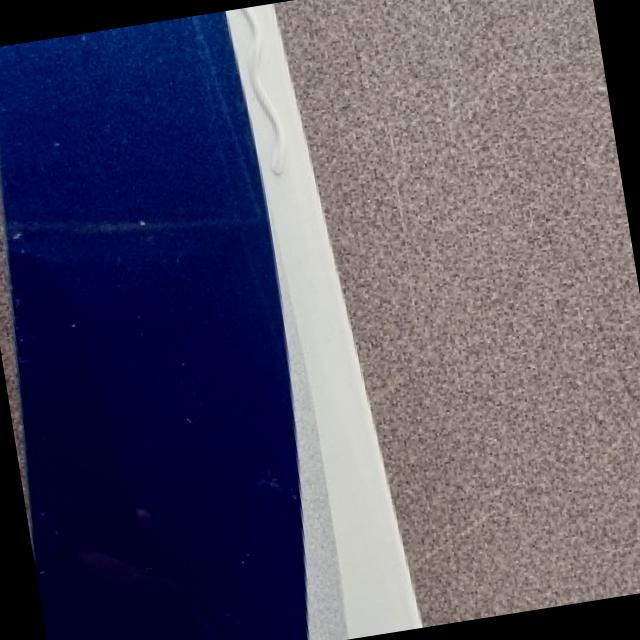healthy: (0, 4, 418, 640)
